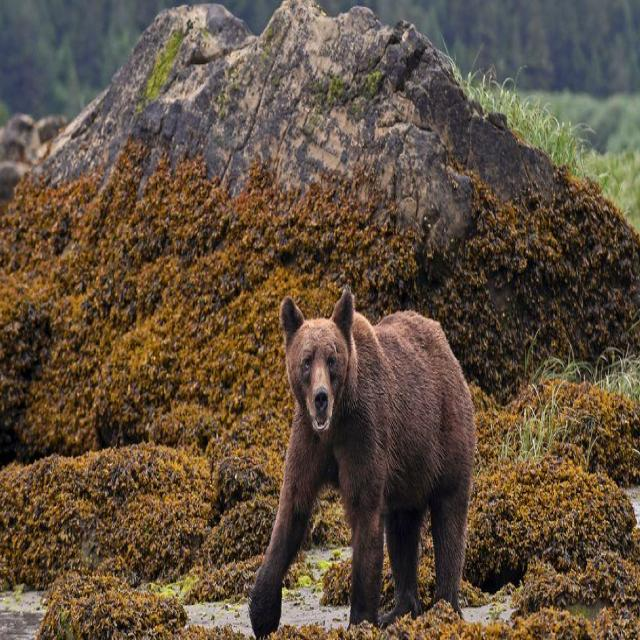Bear: (249, 290, 477, 640)
